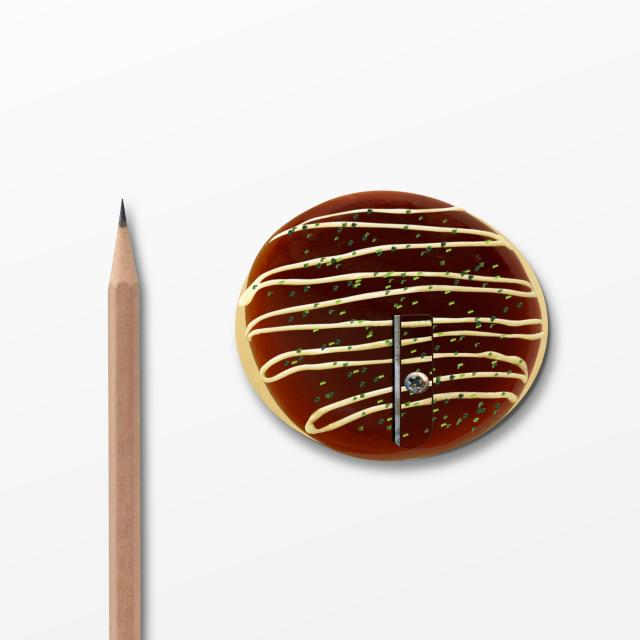pencil: (100, 193, 148, 640)
